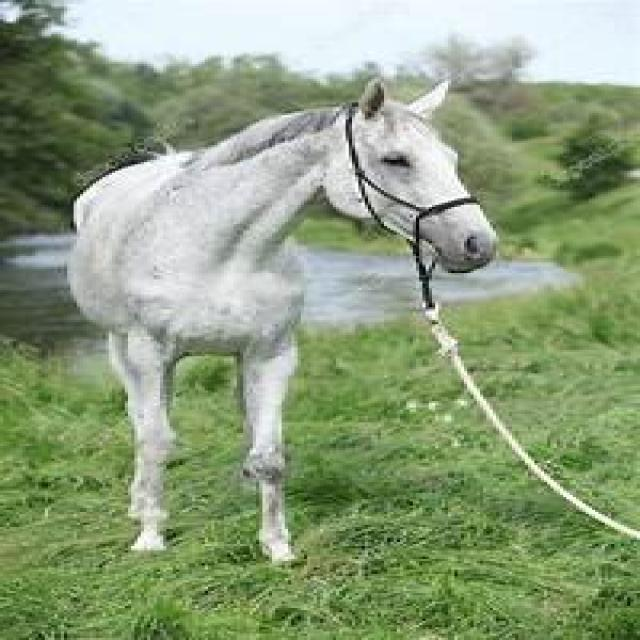horse: (71, 80, 497, 561)
